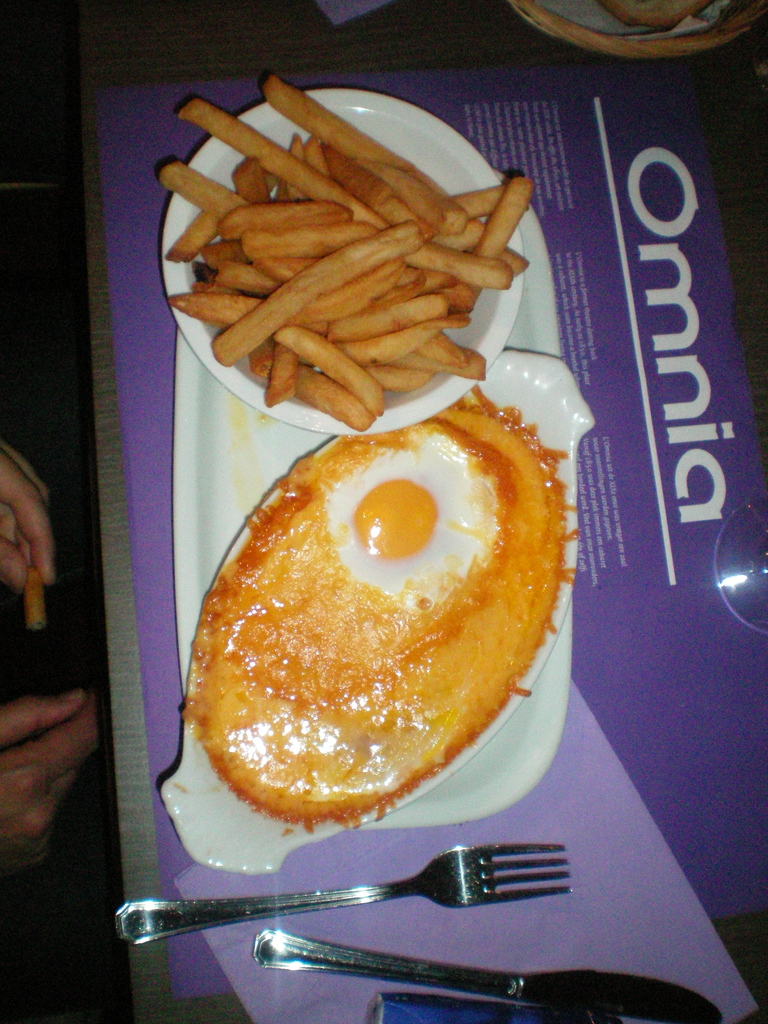French fries: (144, 63, 533, 430)
